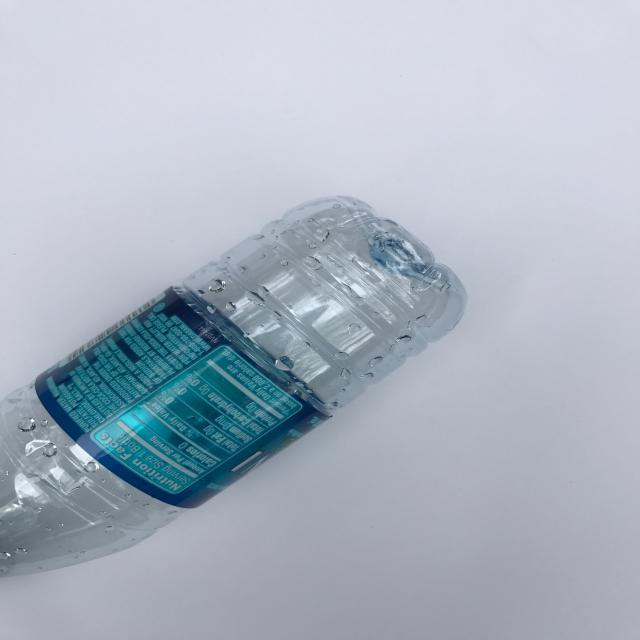plastic: (2, 193, 466, 588)
